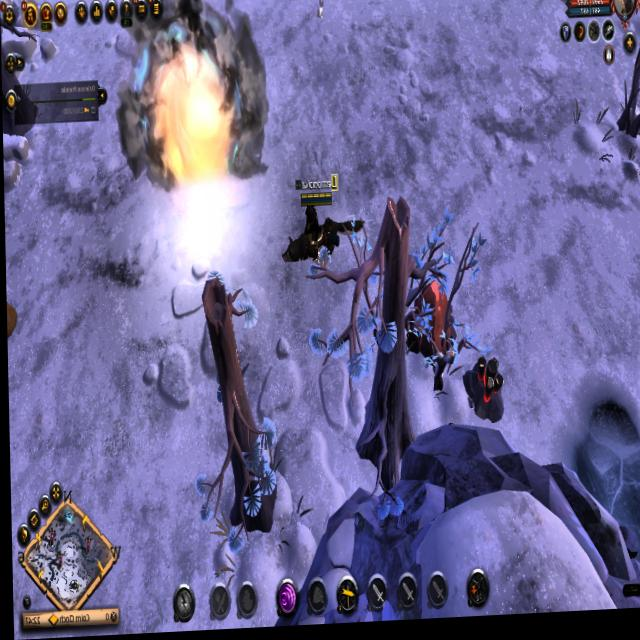ore tier 5: (463, 357, 508, 432)
